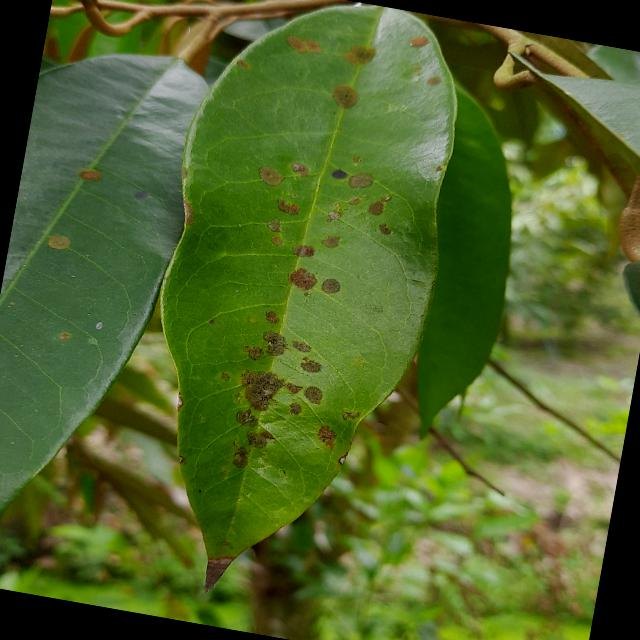Algal Leaf Spot: (104, 0, 492, 633)
